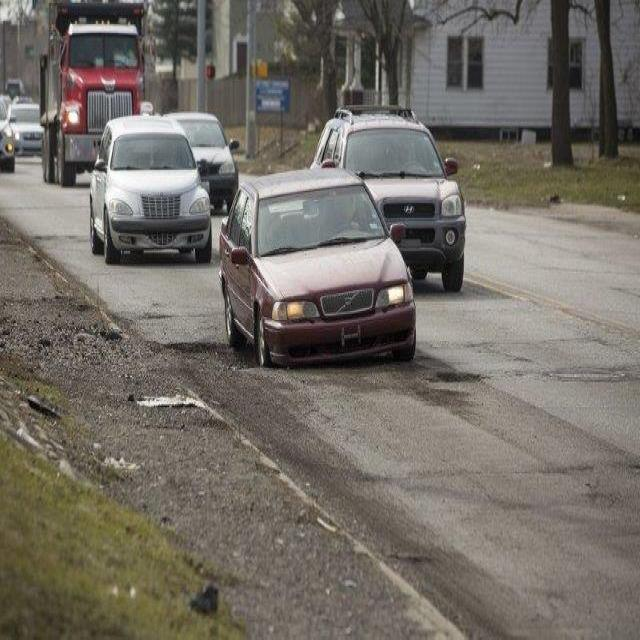jalan retak: (348, 463, 494, 501), (531, 580, 599, 640), (465, 332, 543, 370), (545, 358, 640, 389), (528, 451, 598, 483), (463, 277, 513, 307), (576, 484, 624, 513), (33, 226, 80, 247), (576, 325, 607, 350), (627, 454, 640, 479)
lubang: (189, 368, 354, 486), (398, 361, 484, 434), (348, 364, 444, 413), (162, 342, 255, 383), (385, 541, 444, 574), (132, 296, 178, 330), (426, 367, 489, 389)
